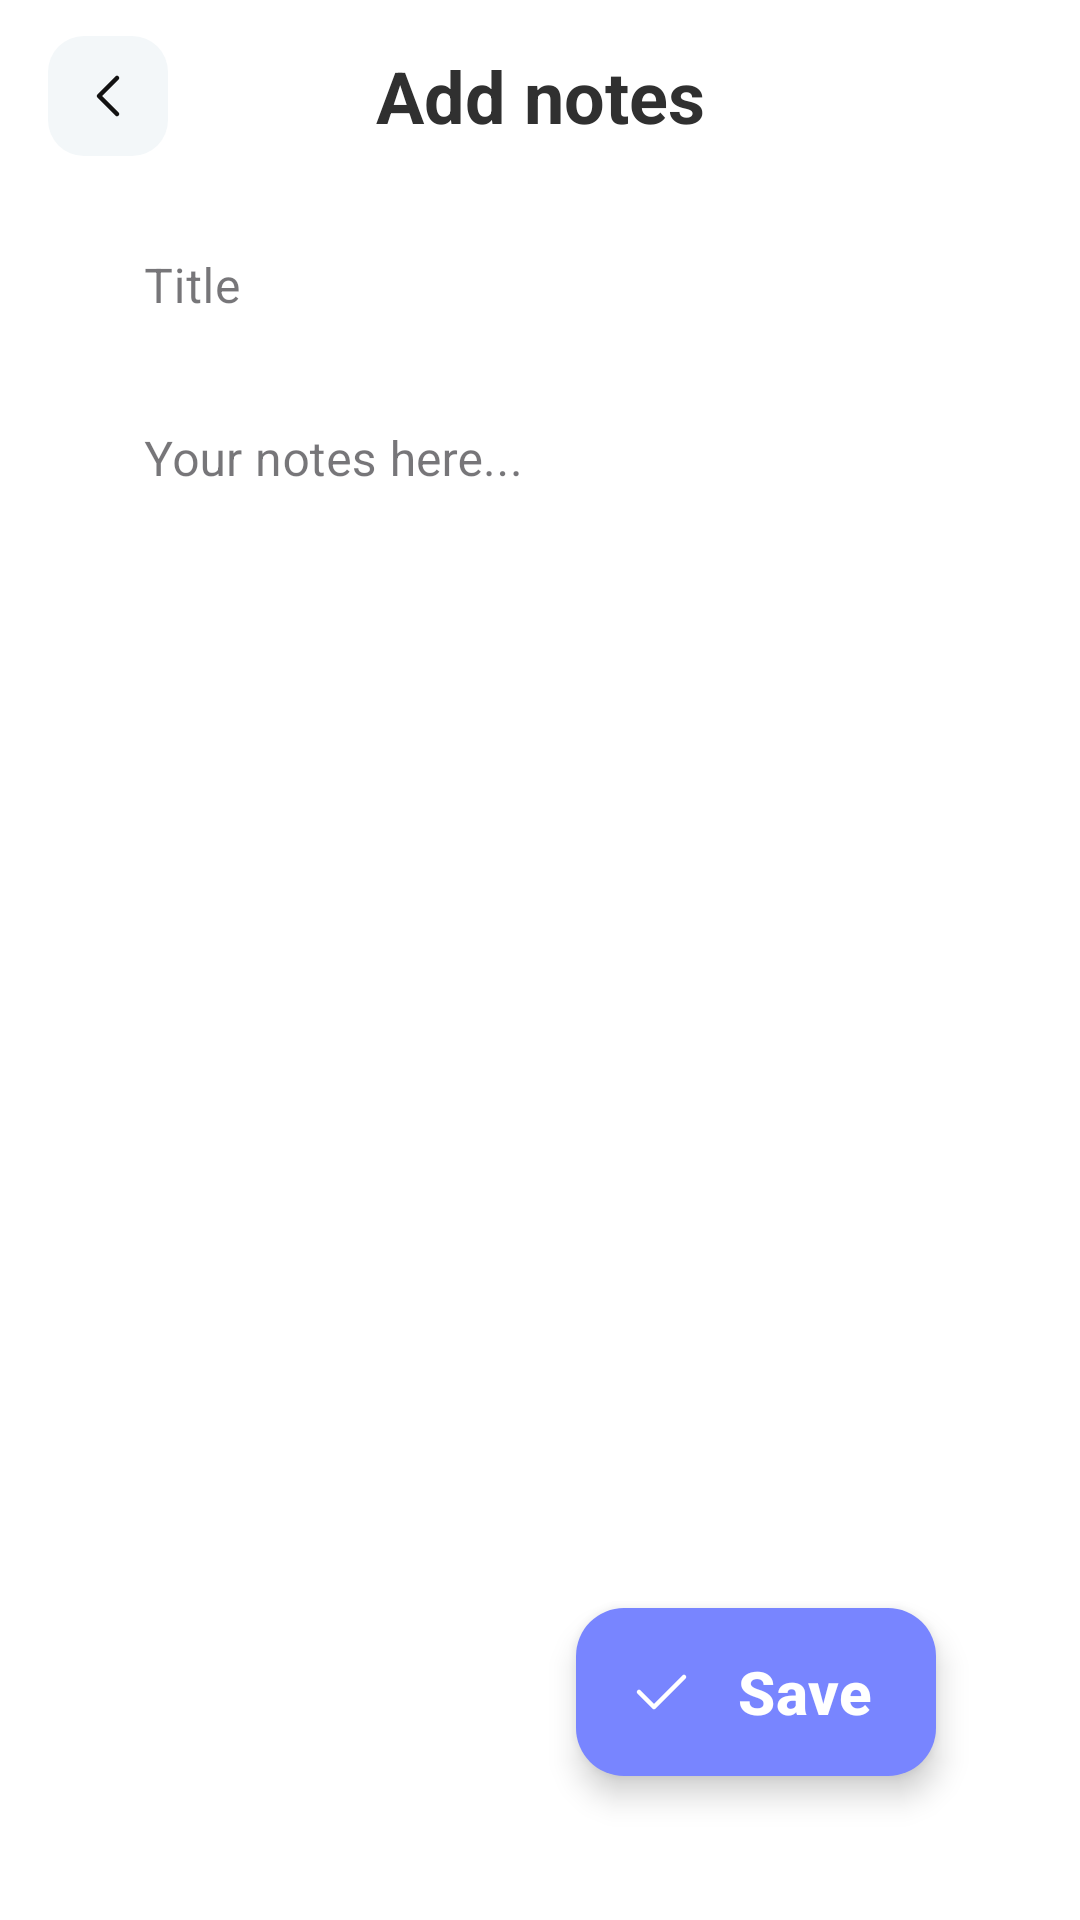

Icon bounding boxes for this 1080*1920 phone screenshot, format (x1,y1,x2,y2):
back: (48,36,168,156)
